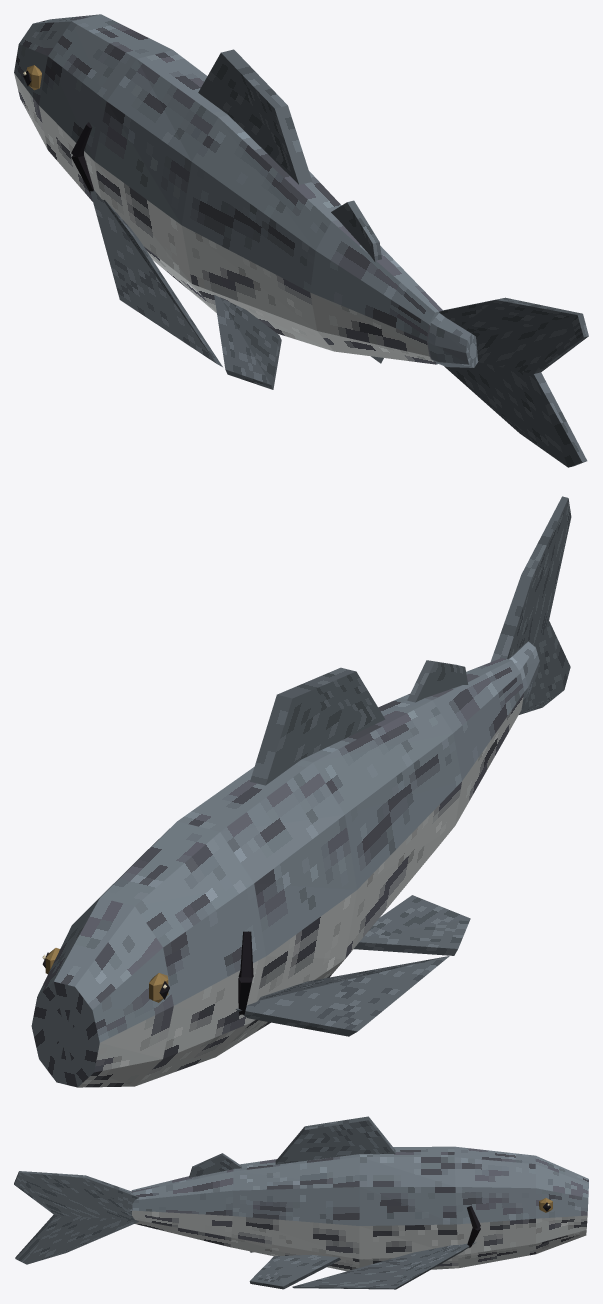
Rendered from mon_fish_salmon.glb.
3 renders of one model, top to bottom at view 1: azimuth 30°, elevation 25°; view 2: azimuth 150°, elevation 25°; view 3: azimuth 270°, elevation 25°, orthographic. The views are drawn at different scales.
Parts seen in each view (by area): view 1: closed_body; view 2: closed_body; view 3: closed_body.
Boxes of the visible parts, <box> form: closed_body: <box>14,14,588,467</box>; closed_body: <box>31,496,571,1087</box>; closed_body: <box>14,1116,588,1289</box>.
Bounding box in the file's own units: 0.2669 × 0.3829 × 1.32.
1 material, 1 textured.
